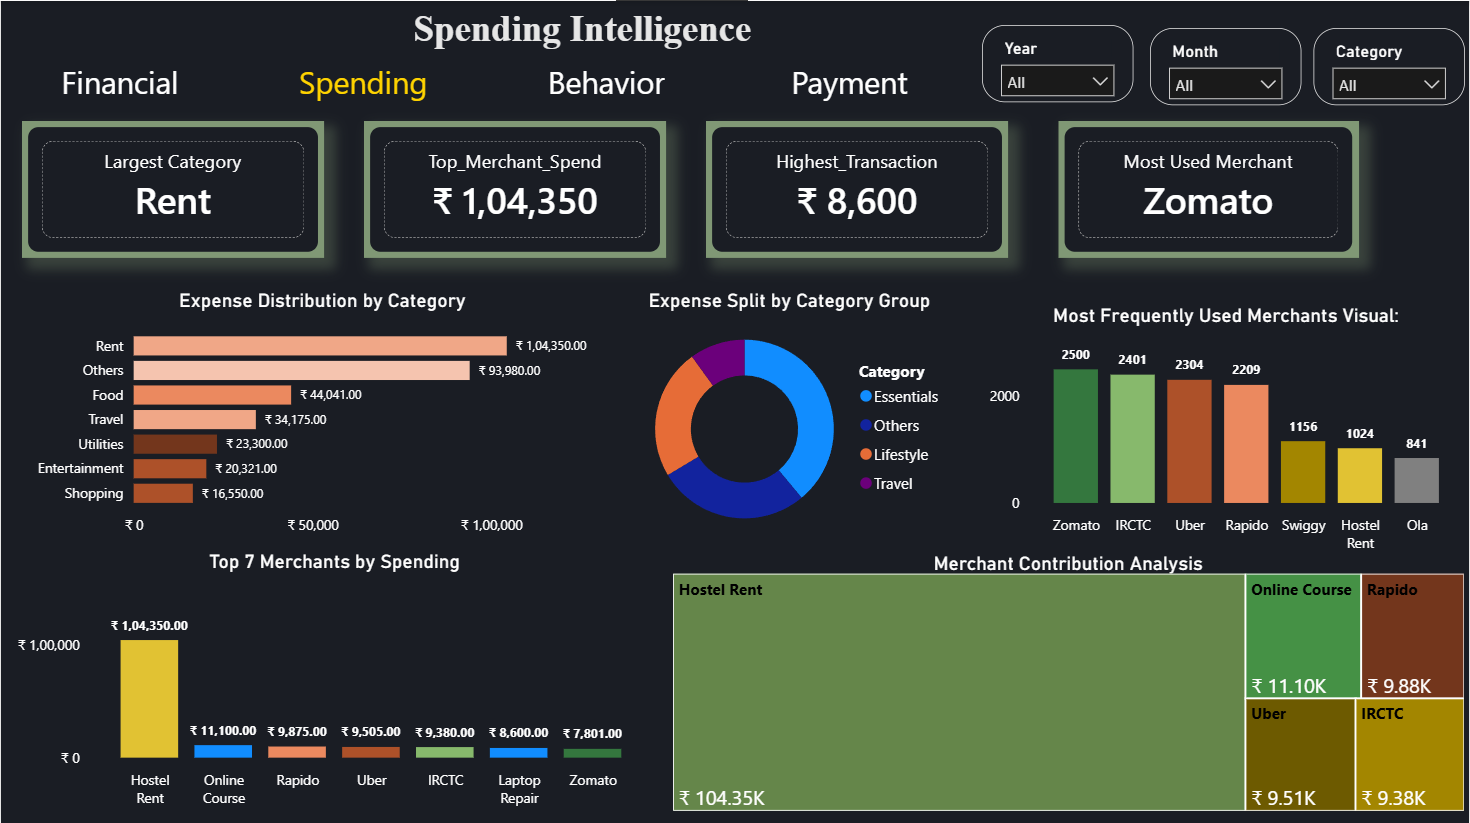

This screenshot's page, from the dashboard's own definition file:
{"tool":"powerbi","page":{"name":"Spending ","canvas":[1280,720],"ordinal":1},"visuals":[{"type":"textbox","box":[3,0,1276.5,69.7],"z":0},{"type":"cardVisual","fields":{"Data":["Sheet1.Largest Category"]},"box":[18.2,104.5,263.5,119.6],"z":1000},{"type":"cardVisual","title":"T","fields":{"Data":["Sheet1.Top_Merchant_Spend1"]},"box":[316.5,104.5,263.5,119.6],"z":2000},{"type":"cardVisual","title":"T","fields":{"Data":["Sheet1.Highest_Transaction"]},"box":[614.8,104.5,263.5,119.6],"z":3000},{"type":"cardVisual","title":"T","fields":{"Data":["Sheet1.Most Used Merchant"]},"box":[922.2,104.5,262,119.6],"z":4000},{"type":"slicer","fields":{"Values":["Sheet1.Year"]},"box":[855.7,21.6,132.3,67.6],"z":5000},{"type":"slicer","fields":{"Values":["Sheet1.Month"]},"box":[1000.9,23,132.3,67.6],"z":6000},{"type":"slicer","fields":{"Values":["Sheet1.Category"]},"box":[1144.7,23,132.3,67.6],"z":7000},{"type":"clusteredBarChart","title":"Expense Distribution by Category","fields":{"Category":["Sheet1.Category"],"Y":["Sum(Sheet1.Amount_Abs)"]},"box":[18.2,251.4,523.9,224.1],"z":8000},{"type":"clusteredColumnChart","title":"Top 7 Merchants by Spending","fields":{"Category":["Sheet1.Merchant"],"Y":["Sum(Sheet1.Amount_Abs)"]},"box":[9.1,478.5,563.3,231.7],"z":9000},{"type":"treemap","title":"Merchant Contribution Analysis","fields":{"Group":["Sheet1.Merchant"],"Values":["Sum(Sheet1.Amount_Abs)"]},"box":[579.9,480,699.6,231],"z":10000},{"type":"donutChart","title":"Expense Split by Category Group","fields":{"Y":["Sum(Sheet1.Amount_Abs)"],"Category":["Sheet1.Category_Group"]},"box":[542.1,251.4,289.2,224.1],"z":11000},{"type":"clusteredColumnChart","title":"Most Frequently Used Merchants  Visual:","fields":{"Category":["Sheet1.Merchant"],"Y":["Sum(Sheet1.Merchant_Frequency)"]},"box":[857,263.5,422.5,224.1],"z":12000},{"type":"pageNavigator","box":[3,45.4,841,48.5],"z":13000}]}

Visuals, with their boxes in screenshot pixels (x1, y1, x2, y2), scaled from the page's 1280x720 canvas onto the 1470x823 screenshot:
textbox: bbox=[3, 0, 1469, 80]
cardVisual - Sheet1.Largest Category: bbox=[21, 119, 324, 256]
"T" cardVisual: bbox=[363, 119, 666, 256]
"T" cardVisual: bbox=[706, 119, 1009, 256]
"T" cardVisual: bbox=[1059, 119, 1360, 256]
slicer - Sheet1.Year: bbox=[983, 25, 1135, 102]
slicer - Sheet1.Month: bbox=[1149, 26, 1301, 104]
slicer - Sheet1.Category: bbox=[1315, 26, 1467, 104]
"Expense Distribution by Category" clusteredBarChart: bbox=[21, 287, 623, 544]
"Top 7 Merchants by Spending" clusteredColumnChart: bbox=[10, 547, 657, 812]
"Merchant Contribution Analysis" treemap: bbox=[666, 549, 1469, 813]
"Expense Split by Category Group" donutChart: bbox=[623, 287, 955, 544]
"Most Frequently Used Merchants  Visual:" clusteredColumnChart: bbox=[984, 301, 1469, 557]
pageNavigator: bbox=[3, 52, 969, 107]
